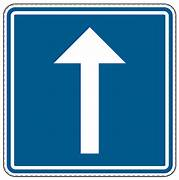forward: (2, 3, 175, 177)
